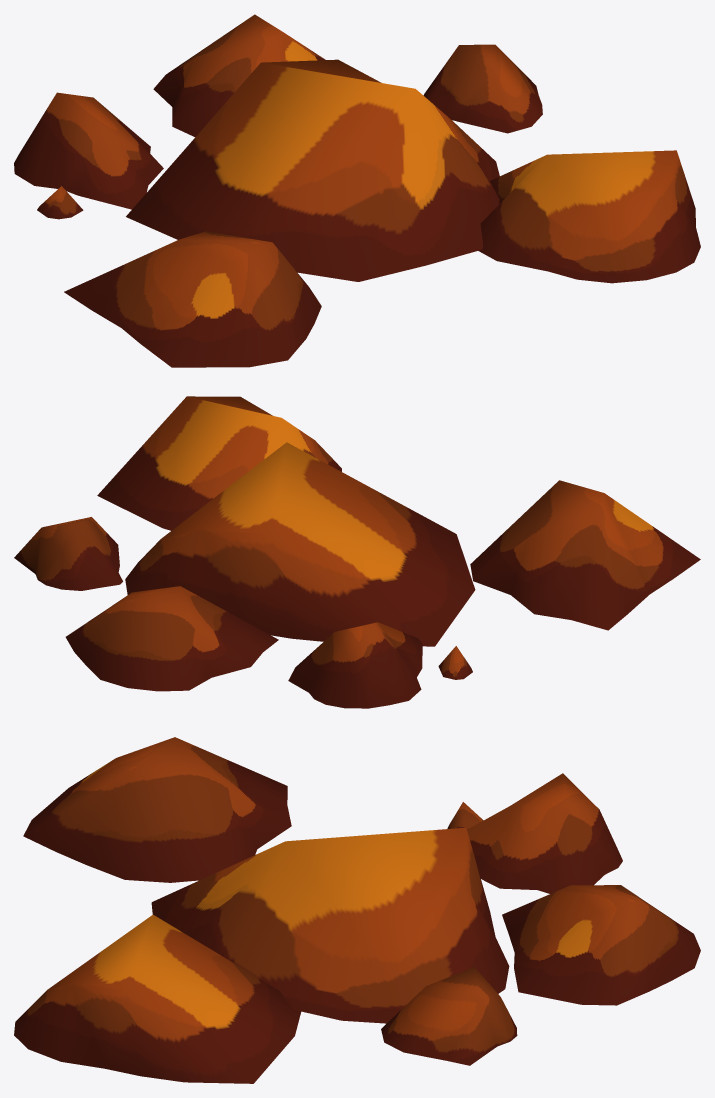
Rendered from Rock 3x 3 1_preview_3DS_simplified.glb.
3 renders of one model, top to bottom at view 1: azimuth 30°, elevation 25°; view 2: azimuth 150°, elevation 25°; view 3: azimuth 270°, elevation 25°, orthographic. The views are drawn at different scales.
Parts seen in each view (by area): view 1: Marine Park Empire model; view 2: Marine Park Empire model; view 3: Marine Park Empire model.
Part boxes in pixels (left/top/right/bottom): Marine Park Empire model: left=14, top=14, right=700, bottom=367; Marine Park Empire model: left=14, top=396, right=700, bottom=708; Marine Park Empire model: left=14, top=737, right=700, bottom=1083.
Bounding box in the file's own units: 93.03 × 19.15 × 92.24.
1 material, 1 textured.
